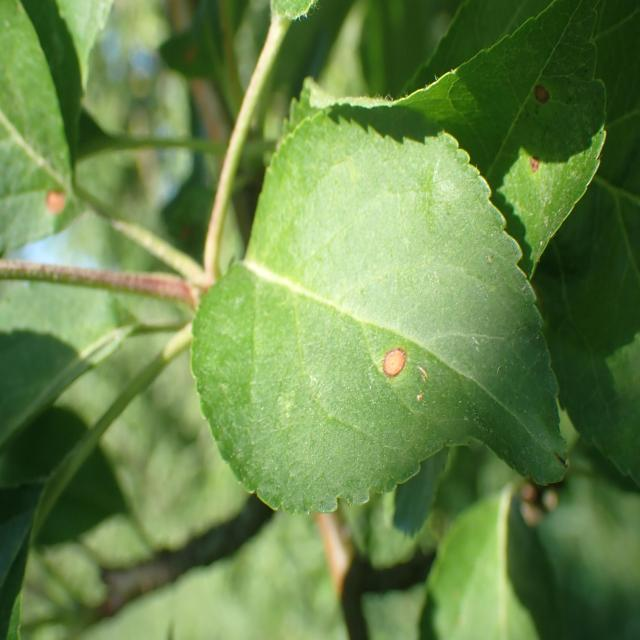frog-eye-leaf-spot: (191, 94, 569, 516)
